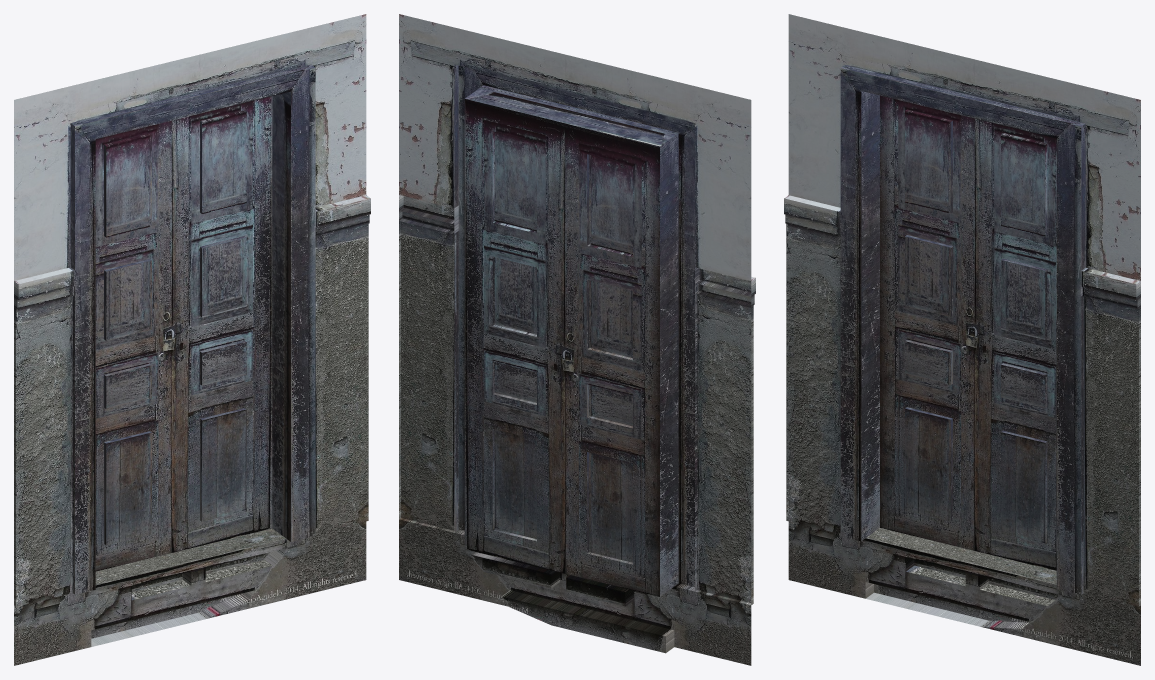
File: Puerta vieja.fbx
The picture shows the model from 3 angles, left to right: view 1: azimuth 30°, elevation 25°; view 2: azimuth 150°, elevation 25°; view 3: azimuth 330°, elevation 25°; orthographic projection.
Visible parts, largest first — view 1: Plane001; view 2: Plane001; view 3: Plane001.
Boxes of the visible parts, bbox=[...] form: Plane001: bbox=[14, 14, 370, 665]; Plane001: bbox=[399, 14, 755, 665]; Plane001: bbox=[784, 14, 1140, 665].
Size of the model in its own units: 117 by 179 by 10.72.
Materials: 1 (1 with a texture image).
